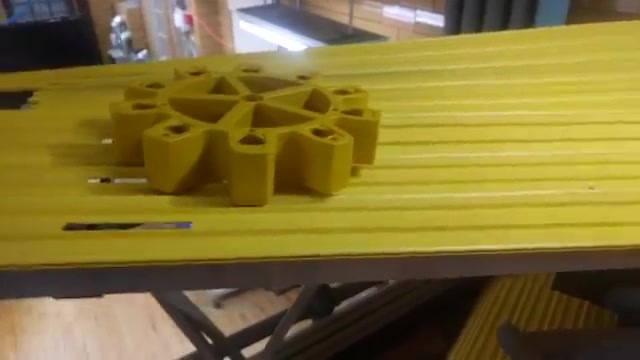gear: (105, 53, 380, 197), (108, 53, 378, 198)
